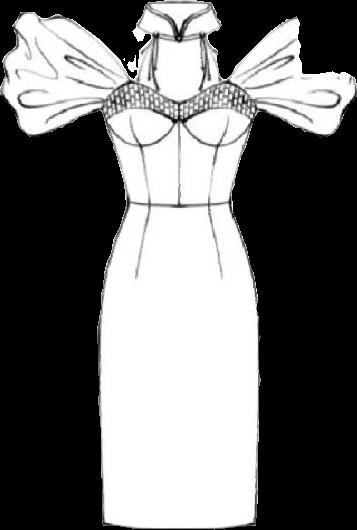Bodice: (100, 0, 260, 208)
Hemline: (102, 519, 260, 529)
Neckline: (95, 76, 261, 110), (145, 3, 211, 44), (134, 22, 223, 39)
Skirt: (97, 204, 260, 528)
Sleeve: (0, 12, 129, 136), (229, 16, 356, 136)
Sleeveline: (94, 73, 131, 111), (230, 73, 264, 109)
Waistline: (124, 196, 233, 210)
